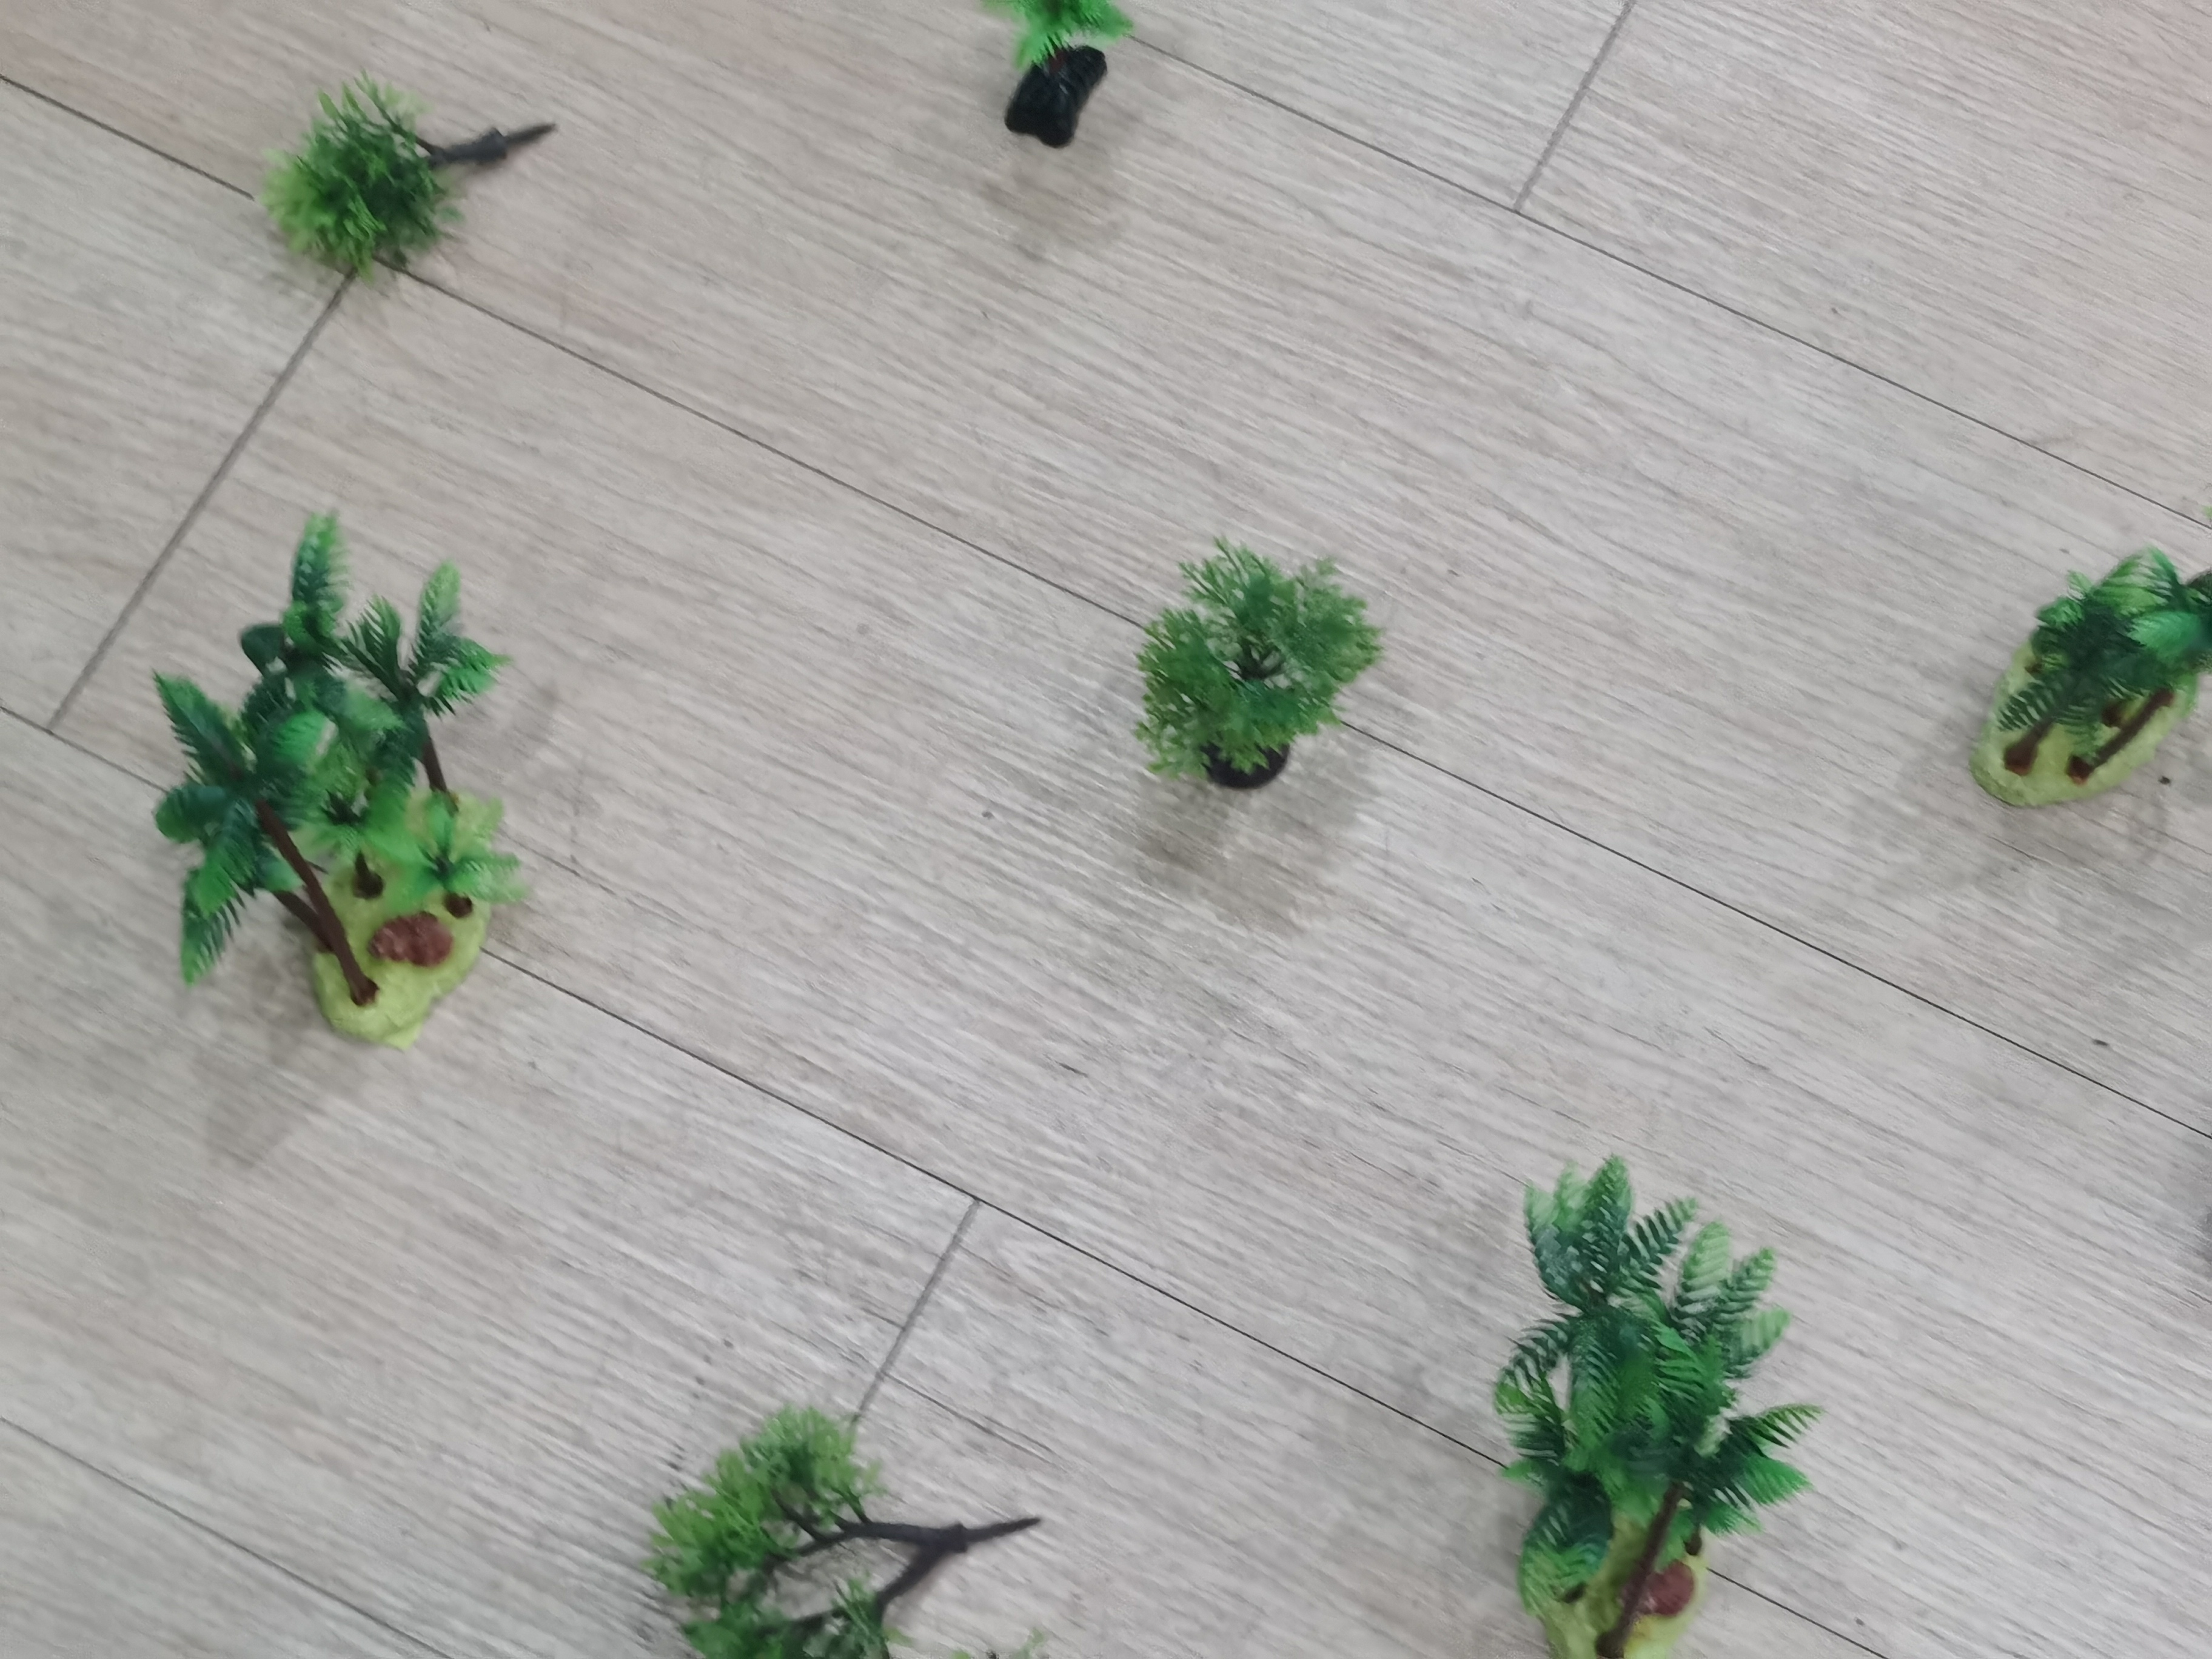corn: (145, 519, 526, 1046), (1479, 1148, 1815, 1659), (1980, 542, 2212, 819), (981, 3, 1130, 159)
